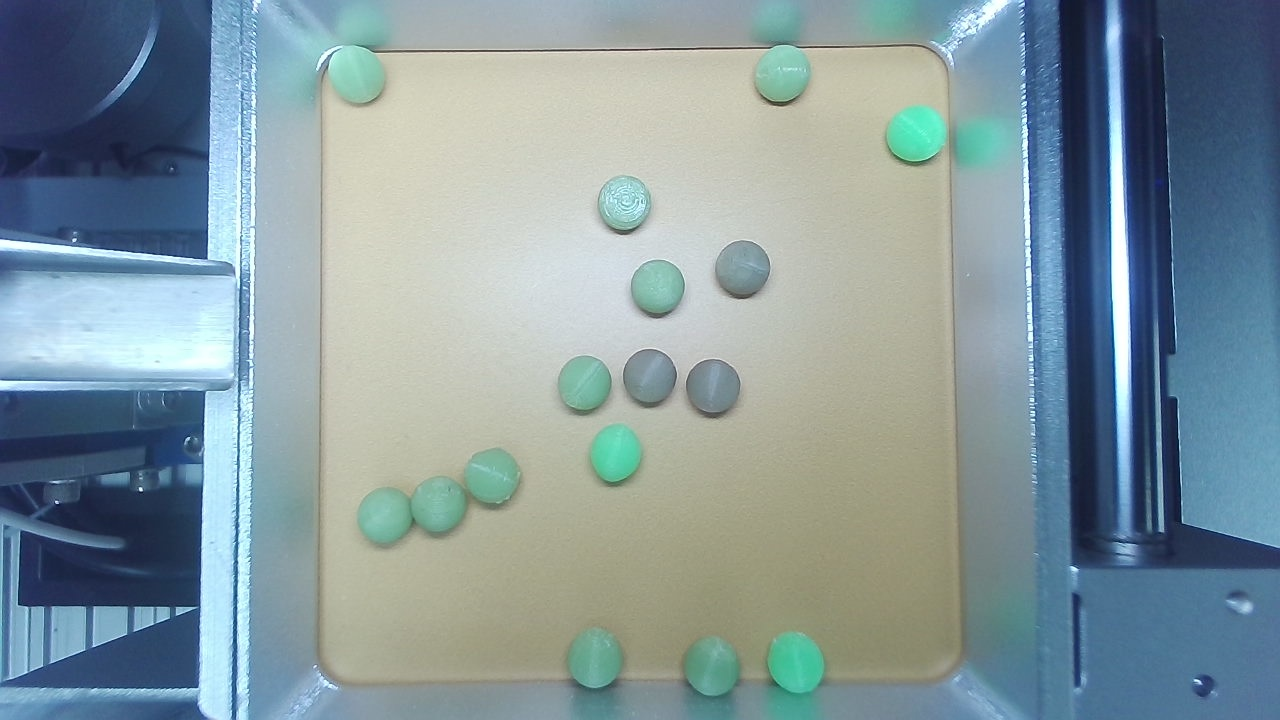bad: (722, 419, 777, 460), (506, 476, 552, 521), (367, 140, 411, 185), (635, 275, 679, 320), (826, 68, 869, 113), (258, 173, 305, 213), (453, 37, 494, 81), (824, 151, 864, 191), (695, 579, 733, 621), (583, 62, 622, 102), (265, 307, 304, 346), (809, 29, 846, 69), (770, 30, 807, 69), (265, 211, 308, 244), (379, 37, 412, 78), (819, 578, 860, 610), (724, 274, 760, 310), (726, 307, 763, 342), (363, 7, 399, 42), (690, 210, 725, 244), (642, 363, 675, 399), (261, 375, 296, 408), (371, 268, 403, 301)
defact: (595, 234, 631, 271)
pass: (556, 219, 601, 264), (263, 408, 306, 449), (287, 568, 330, 609), (270, 604, 311, 646), (435, 325, 477, 365), (661, 526, 700, 565), (560, 602, 598, 642), (616, 202, 654, 241), (793, 135, 827, 178), (709, 541, 745, 579), (614, 22, 647, 62), (623, 58, 657, 96), (848, 597, 879, 637)
toolong: (594, 371, 654, 423), (335, 35, 373, 100), (714, 223, 771, 262)
unpass: (823, 120, 866, 163), (839, 396, 880, 440), (808, 539, 850, 580), (850, 536, 891, 578), (410, 384, 451, 425), (750, 283, 791, 324), (365, 74, 410, 110), (692, 251, 732, 291), (454, 193, 495, 232), (378, 298, 417, 339), (786, 344, 822, 386), (412, 46, 449, 86), (575, 299, 610, 341), (445, 225, 483, 263), (693, 7, 728, 48), (652, 36, 686, 78), (850, 479, 888, 515), (462, 275, 497, 314), (839, 185, 875, 222), (406, 260, 442, 295), (434, 159, 469, 195), (702, 180, 735, 217), (292, 382, 329, 413)
